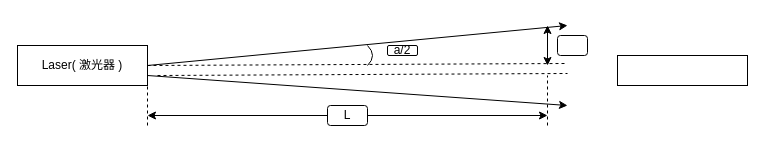
The diagram is 765 pixels wide and 144 high, and some of its shapes have lost their labels. Here are the shapes that lost their labels. From the top down, the box of each, then its label:
(556, 34, 588, 56): R-r
(616, 54, 748, 86): tan( a/2 ) = ( R-r ) / L
